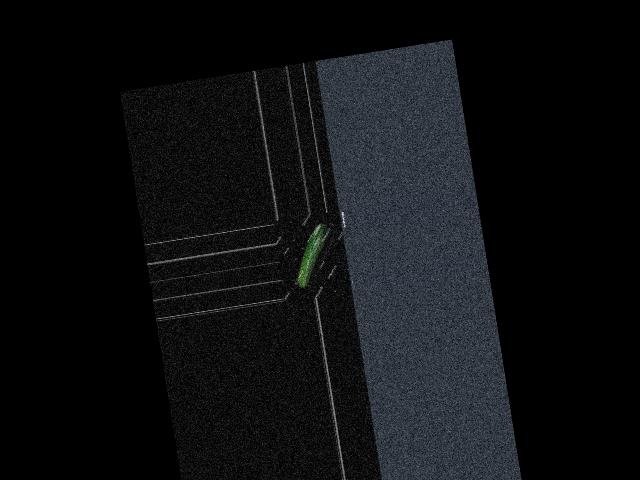cucumber: (289, 222, 336, 288)
